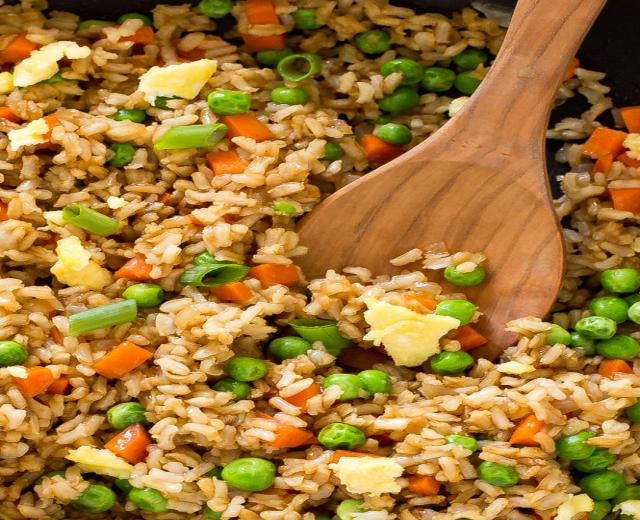fried rice: (16, 1, 596, 509), (2, 278, 300, 514), (308, 5, 475, 158), (546, 67, 638, 262), (4, 105, 162, 209), (145, 292, 279, 383), (182, 139, 316, 212), (387, 5, 491, 65)
